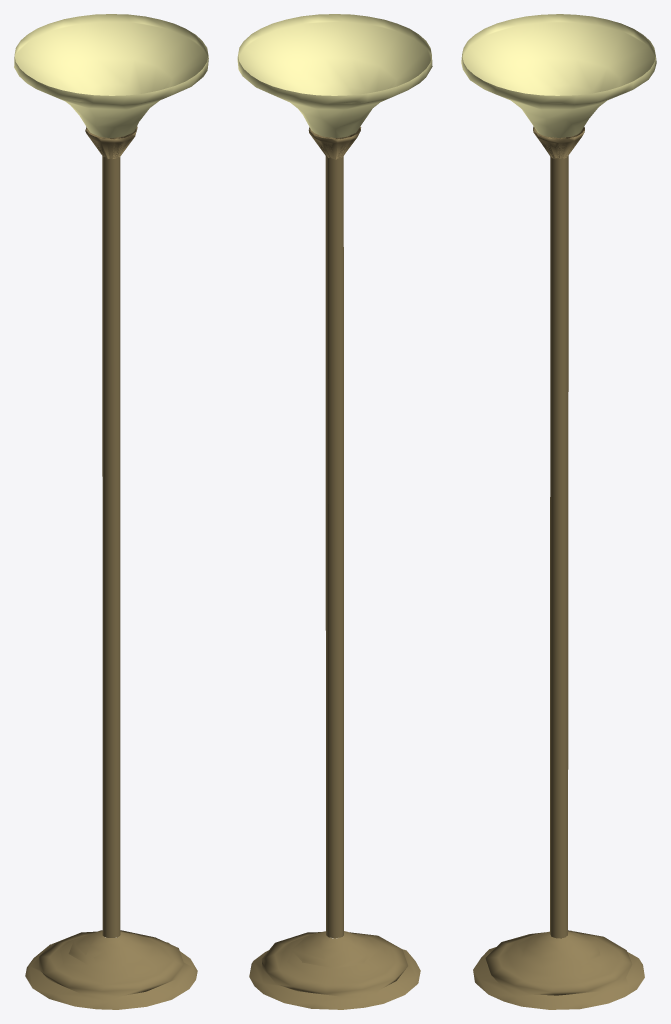
Rendered from standing_lamp.dae.
3 renders of one model, left to right at view 1: azimuth 30°, elevation 25°; view 2: azimuth 150°, elevation 25°; view 3: azimuth 270°, elevation 25°, orthographic.
Parts seen in each view (by area): view 1: geometry-lumionModel, geometry-lumionModel.001, geometry-lumionModel.003; view 2: geometry-lumionModel, geometry-lumionModel.001, geometry-lumionModel.003; view 3: geometry-lumionModel, geometry-lumionModel.001, geometry-lumionModel.003.
Part boxes in pixels (x1=…): geometry-lumionModel: x1=14, y1=14, x2=208, y2=137; geometry-lumionModel.001: x1=85, y1=126, x2=137, y2=937; geometry-lumionModel.003: x1=25, y1=930, x2=197, y2=1009; geometry-lumionModel: x1=237, y1=14, x2=432, y2=137; geometry-lumionModel.001: x1=308, y1=126, x2=361, y2=938; geometry-lumionModel.003: x1=249, y1=931, x2=420, y2=1009; geometry-lumionModel: x1=461, y1=14, x2=656, y2=137; geometry-lumionModel.001: x1=533, y1=126, x2=584, y2=938; geometry-lumionModel.003: x1=473, y1=930, x2=644, y2=1009.
Size of the model in its own units: 0.3247 by 0.3247 by 1.68.
